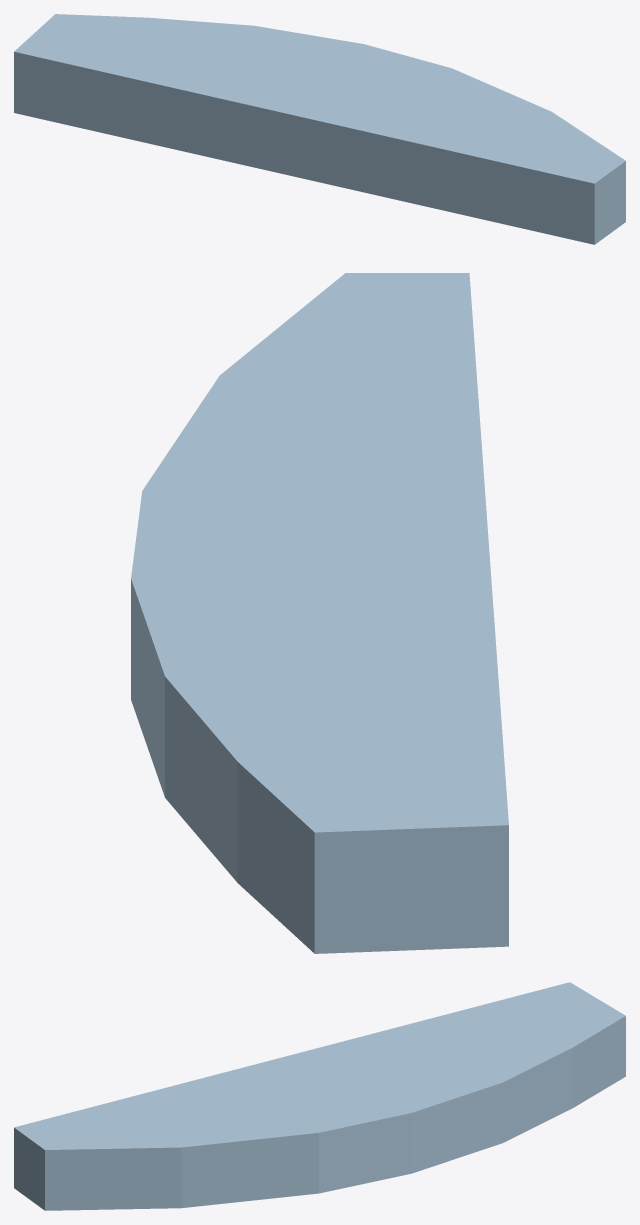
Rendered from osm_way_223859802.glb.
3 views of the same model, one above another, from view 1: azimuth 30°, elevation 25°; view 2: azimuth 150°, elevation 25°; view 3: azimuth 270°, elevation 25° (orthographic). The views are drawn at different scales.
Parts seen in each view (by area): view 1: osm_way_223859802; view 2: osm_way_223859802; view 3: osm_way_223859802.
Part boxes in pixels (x1,y1,x2,y2): osm_way_223859802: (14,14,625,244); osm_way_223859802: (131,273,508,953); osm_way_223859802: (14,982,625,1210).
Size of the model in its own units: 62.3 by 10.5 by 95.93.
